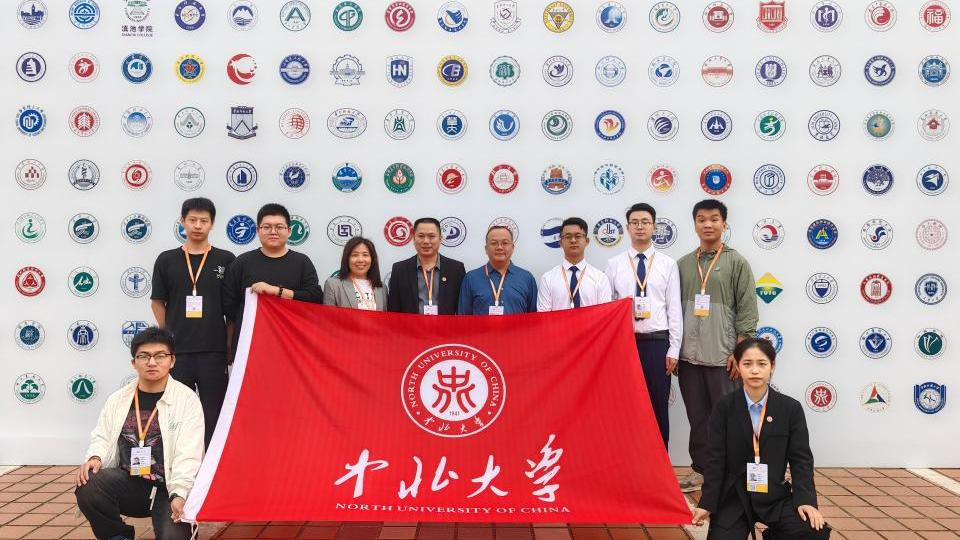persion: (132, 344, 175, 382), (483, 227, 516, 265), (693, 207, 726, 244), (743, 351, 775, 388), (626, 211, 659, 246), (258, 215, 292, 248), (559, 225, 591, 258), (412, 223, 442, 258), (184, 208, 214, 242), (351, 243, 373, 279)
